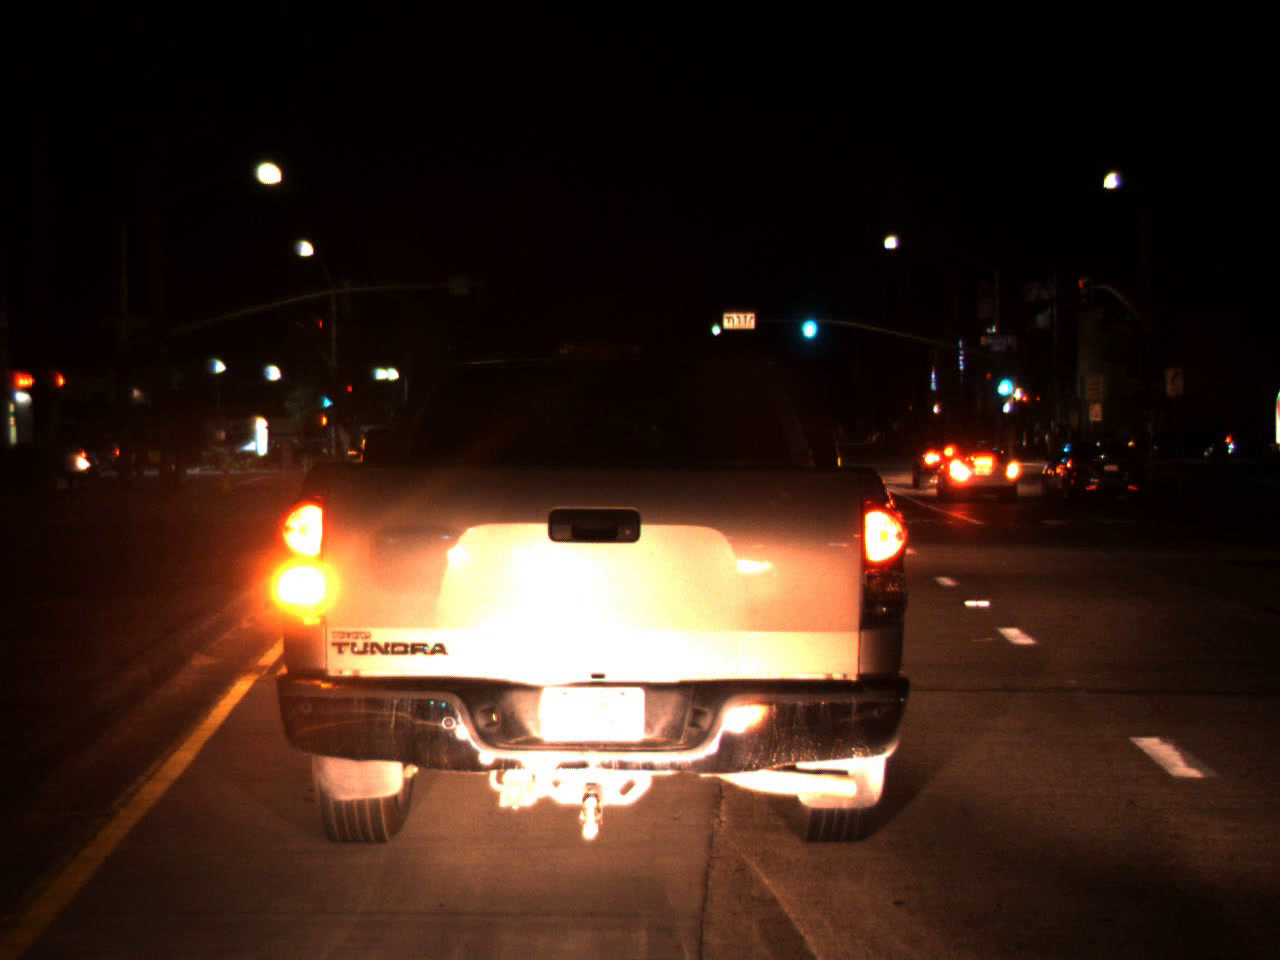go: (796, 295, 819, 346), (991, 357, 1016, 402), (708, 314, 722, 335), (321, 391, 334, 409)
